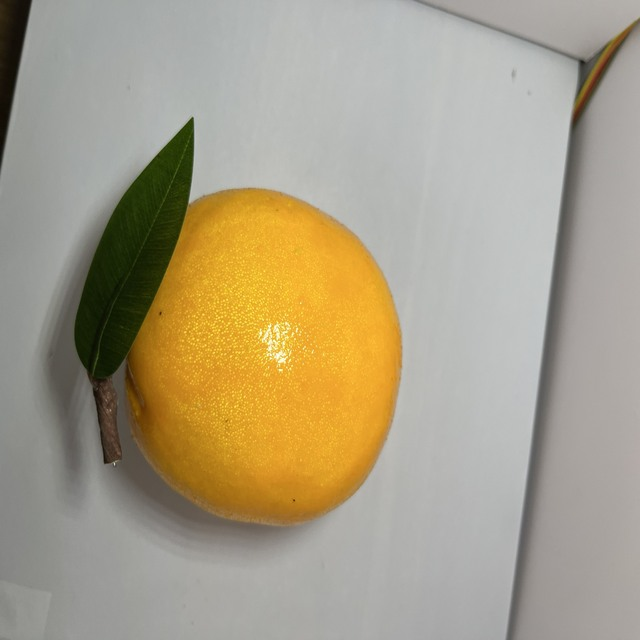Cam vang: (104, 180, 406, 534)
